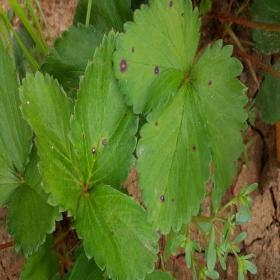Leaf Spot: (135, 78, 211, 235), (67, 28, 139, 190), (187, 38, 250, 214), (112, 0, 202, 116), (18, 70, 84, 217), (70, 184, 161, 279)
